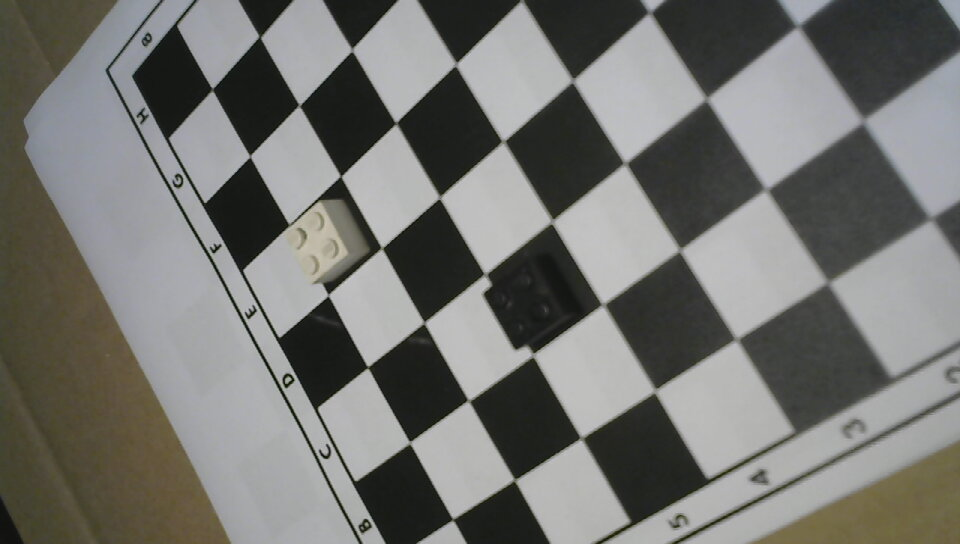bp: (481, 247, 588, 353)
